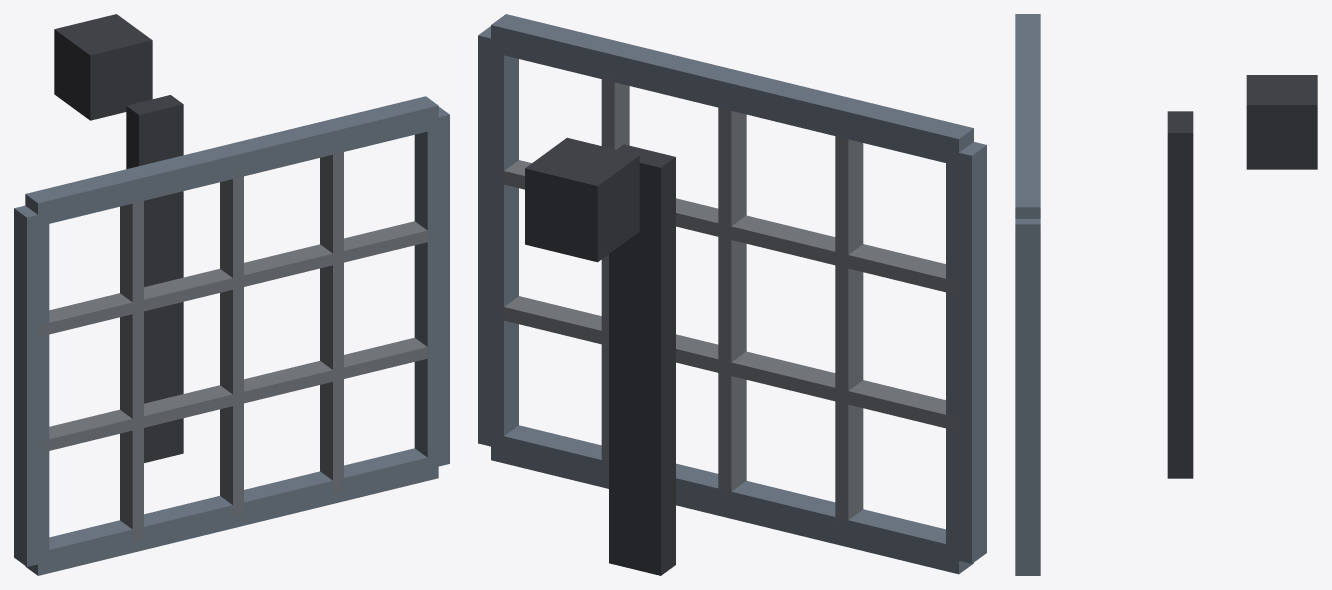
Rendered from Rec_GridFin.fbx.
The picture shows the model from 3 angles, left to right: view 1: azimuth 30°, elevation 25°; view 2: azimuth 150°, elevation 25°; view 3: azimuth 270°, elevation 25°; orthographic projection. The views are drawn at different scales.
Visible parts, largest first — view 1: Rec_GridFin; view 2: Rec_GridFin; view 3: Rec_GridFin.
Part boxes in pixels (<box>): Rec_GridFin: <box>14,14,449,575</box>; Rec_GridFin: <box>478,14,986,575</box>; Rec_GridFin: <box>1015,14,1317,575</box>.
Size of the model in its own units: 0.95 by 0.845 by 0.595.
Materials: 1 (1 with a texture image).
